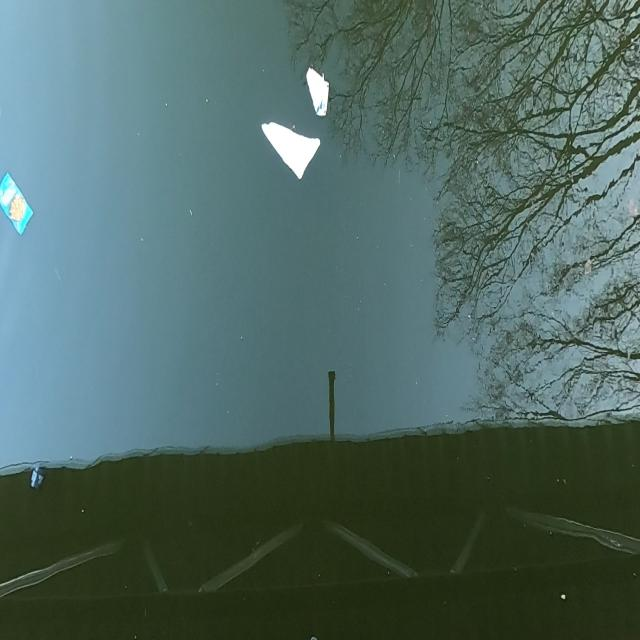Autre plastique: (253, 119, 326, 192), (0, 170, 37, 242), (301, 62, 333, 122)
